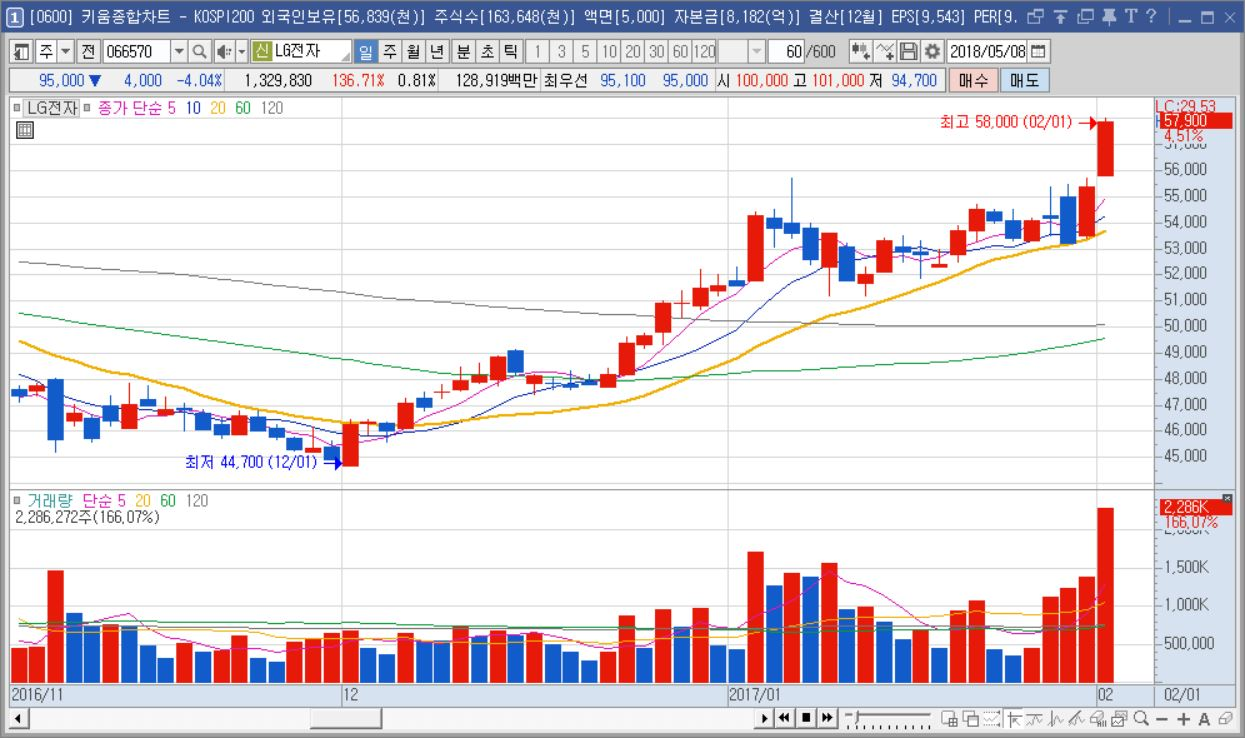up: (342, 105, 1116, 685)
